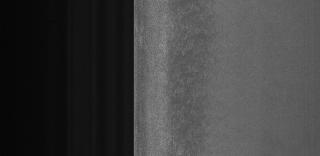silk spot: (165, 9, 228, 143)
